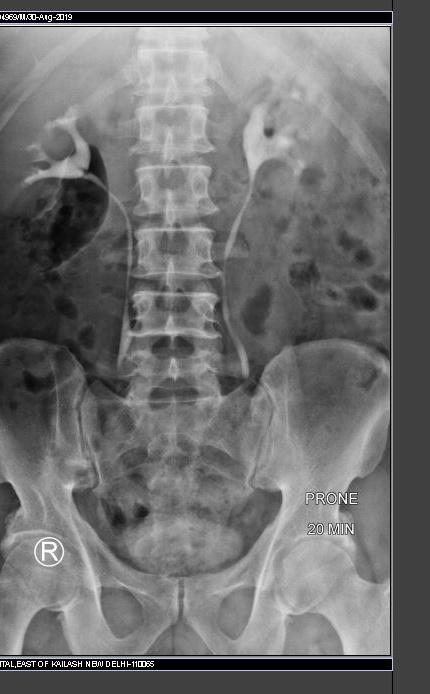bladder: (104, 487, 256, 575)
vertebrae: (130, 102, 218, 154)
